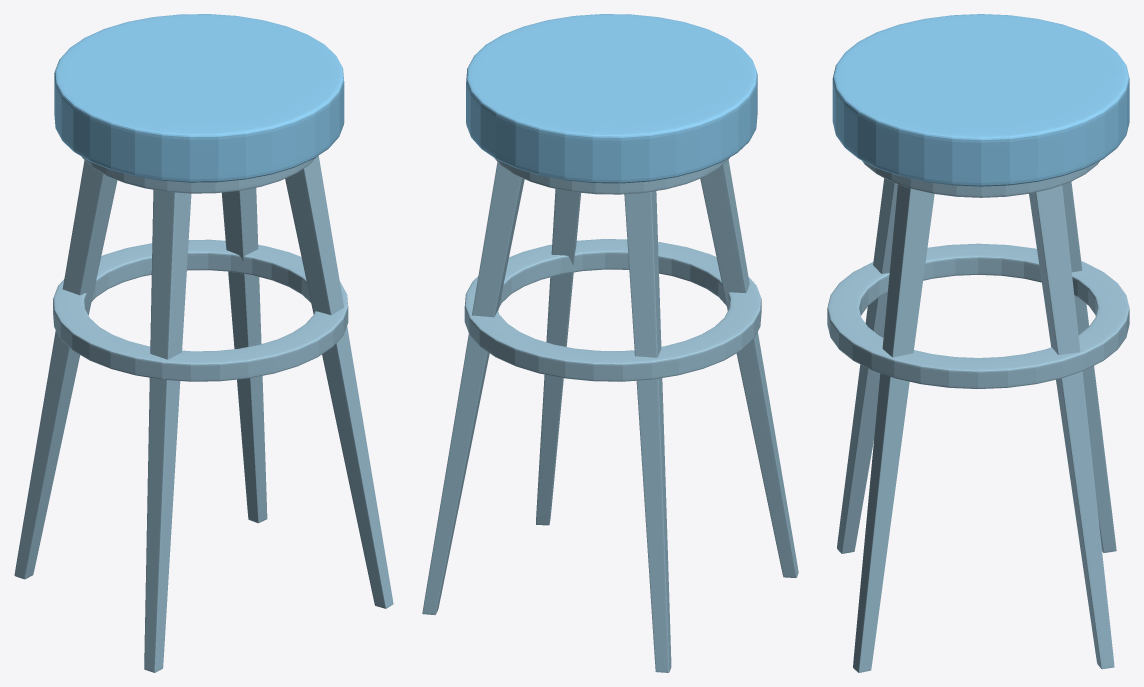
File: chair.glb
3 views of the same model, side by side, from view 1: azimuth 30°, elevation 25°; view 2: azimuth 150°, elevation 25°; view 3: azimuth 270°, elevation 25° (orthographic). The views are drawn at different scales.
Visible parts, largest first — view 1: chair, Cylinder.004, Cube.012, Cube.009, Cube.011, Cube.010, Cylinder.002; view 2: chair, Cylinder.004, Cube.011, Cube.010, Cube.012, Cube.009, Cylinder.002; view 3: chair, Cylinder.004, Cube.009, Cube.010, Cube.012, Cube.011, Cylinder.002.
Boxes of the visible parts, left/top/right/bottom form: chair: left=54, top=14, right=344, bottom=182; Cylinder.004: left=53, top=239, right=348, bottom=381; Cube.012: left=144, top=190, right=191, bottom=672; Cube.009: left=285, top=155, right=393, bottom=608; Cube.011: left=14, top=160, right=117, bottom=579; Cube.010: left=221, top=188, right=267, bottom=523; Cylinder.002: left=82, top=157, right=315, bottom=193; chair: left=466, top=14, right=757, bottom=183; Cylinder.004: left=464, top=239, right=761, bottom=381; Cube.011: left=624, top=191, right=671, bottom=672; Cube.010: left=422, top=162, right=524, bottom=614; Cube.012: left=700, top=160, right=798, bottom=577; Cube.009: left=536, top=189, right=580, bottom=525; Cylinder.002: left=494, top=157, right=729, bottom=194; chair: left=832, top=14, right=1129, bottom=186; Cylinder.004: left=827, top=243, right=1129, bottom=388; Cube.009: left=853, top=184, right=934, bottom=672; Cube.010: left=1029, top=185, right=1114, bottom=669; Cube.012: left=837, top=178, right=897, bottom=553; Cube.011: left=1062, top=181, right=1116, bottom=552; Cylinder.002: left=862, top=161, right=1099, bottom=197.
Size of the model in its own units: 0.5642 by 1.07 by 0.5512.
